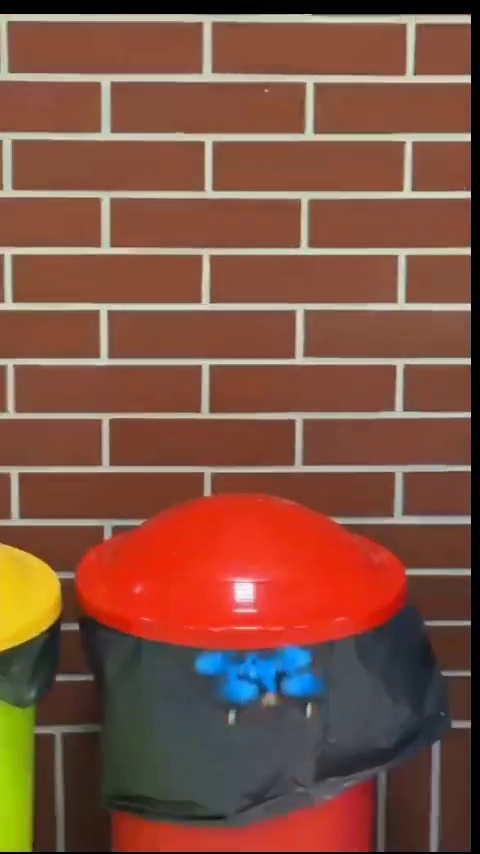drone: (190, 649, 333, 719)
